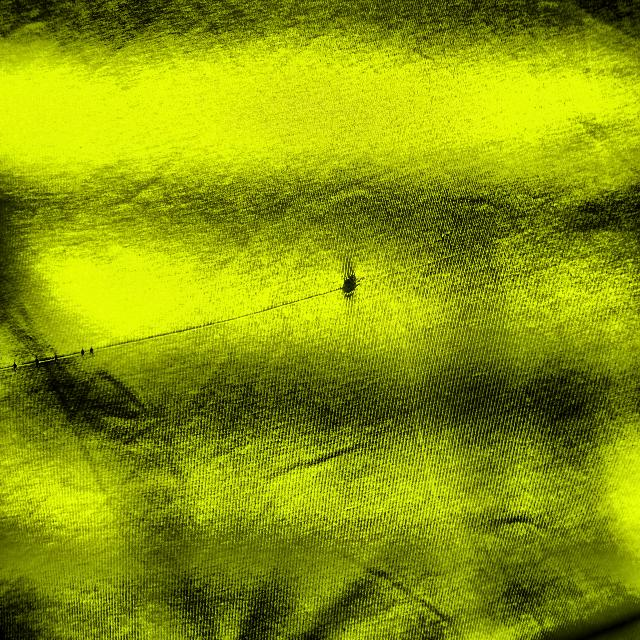Hole: (334, 263, 363, 305)
Stitch: (1, 273, 332, 375)
